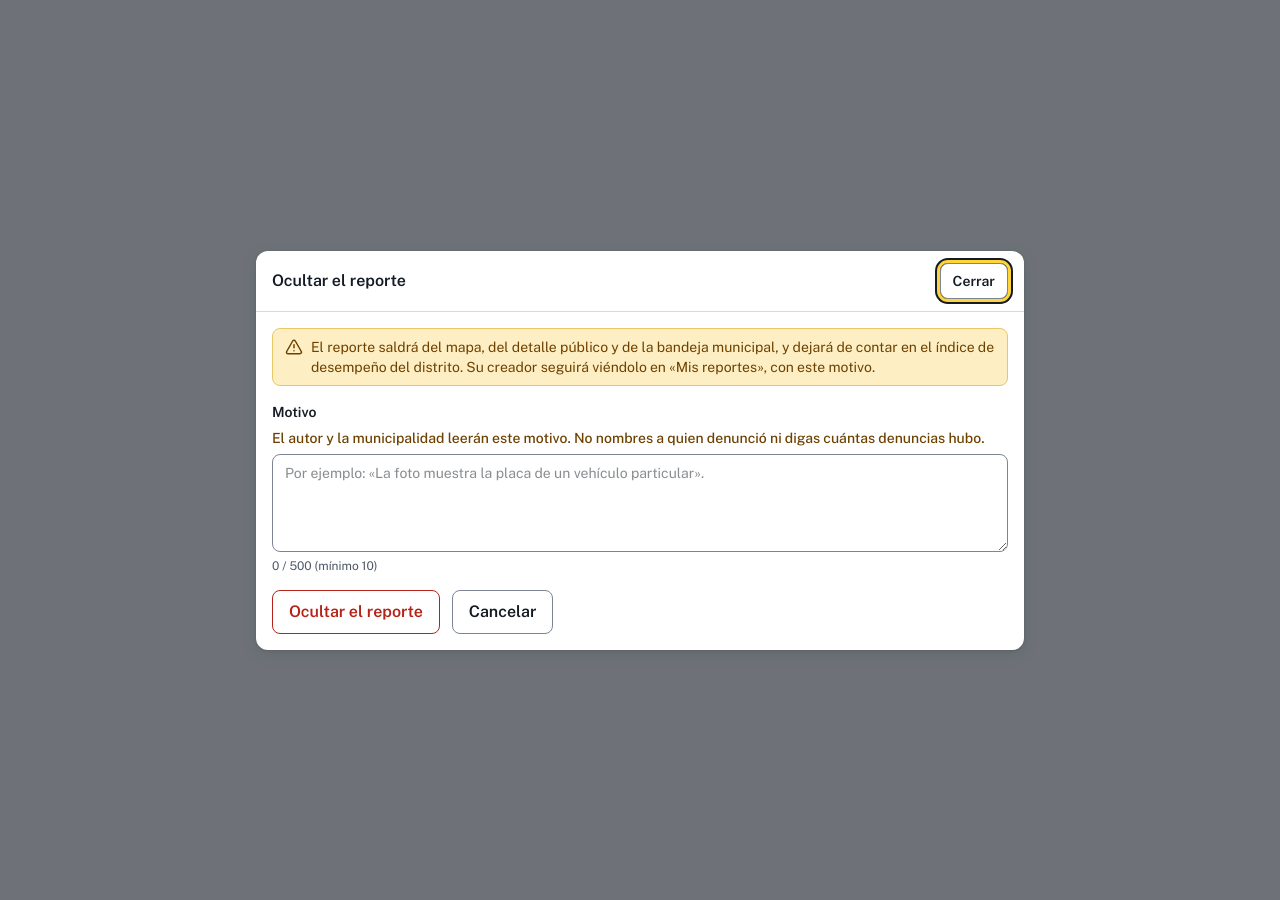
Test case: DialogoModerar (NC-11b) › otro error se muestra arriba y el diálogo sigue abierto
Type "La foto muestra la placa de un vehículo particular" into the text box labelled "Motivo".
click(640, 502); type("La foto muestra la placa de un vehículo particular")  # box [272,454,1008,552]
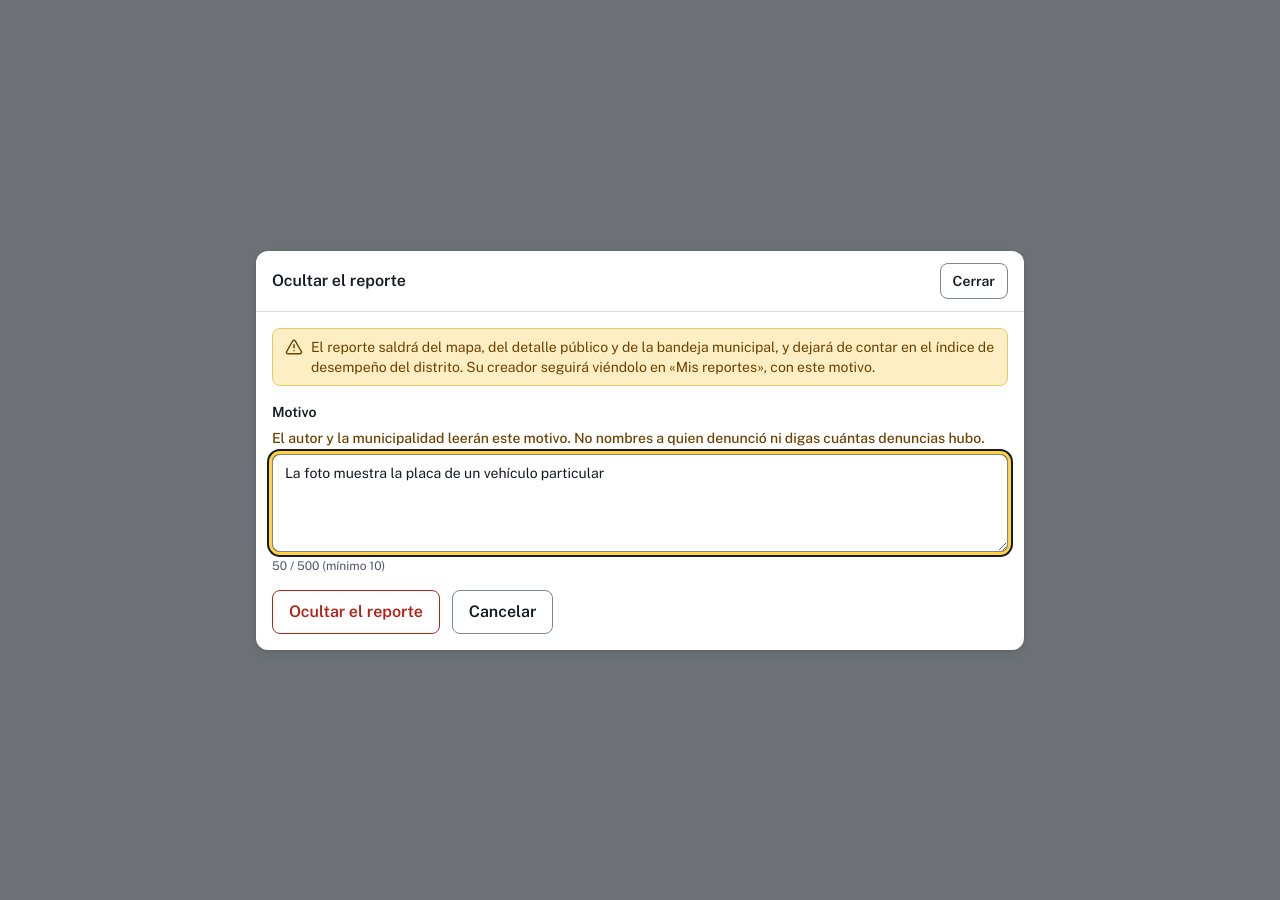
Click the button "Ocultar el reporte".
click(356, 612)  # box [272,590,440,634]
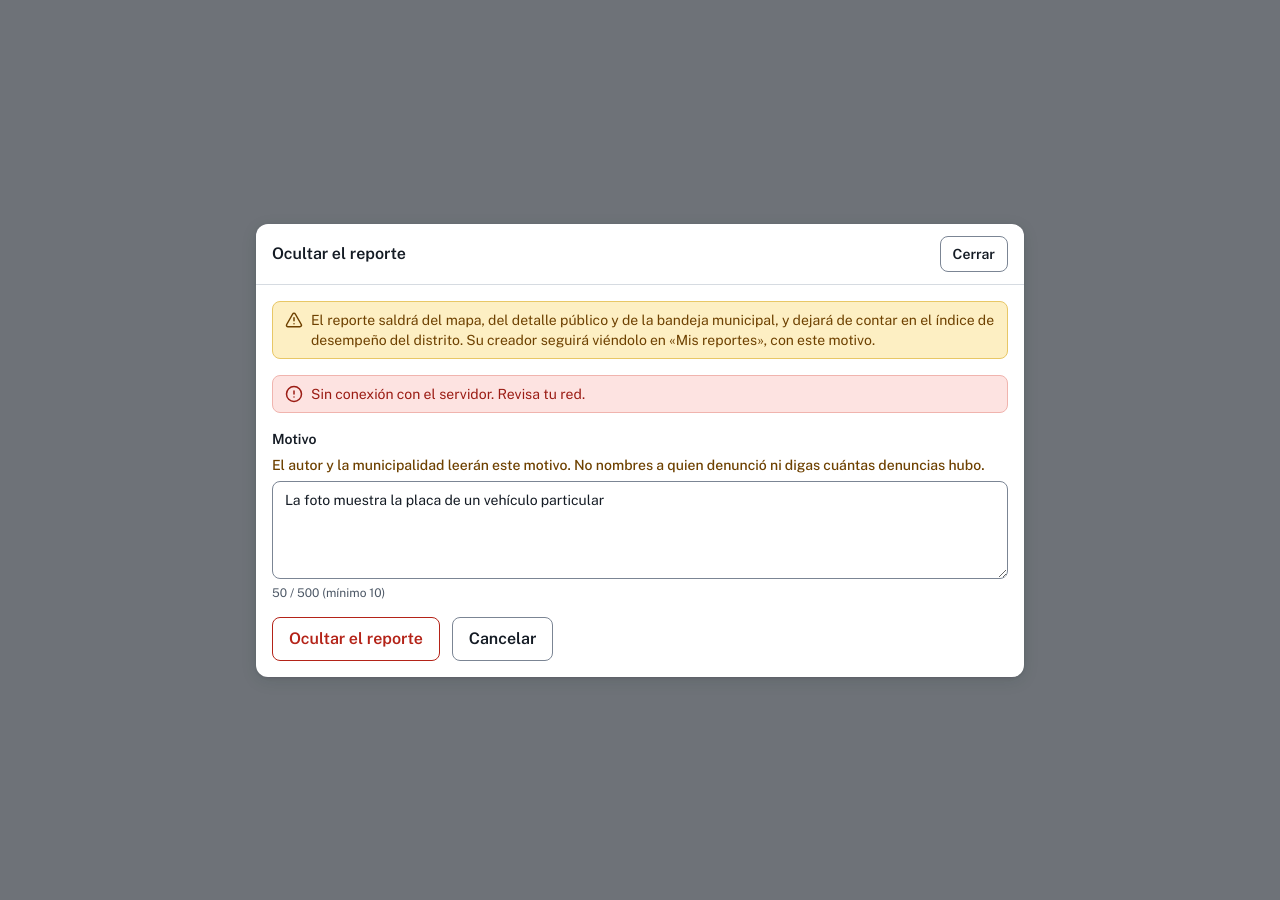
expect the message reads "Sin conexión con el servidor. Revisa tu red.": met, box [311,386,585,402]
